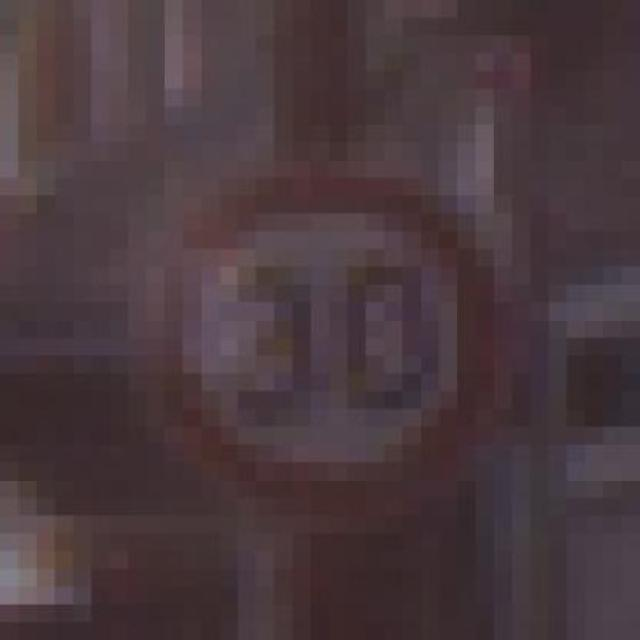Speed Limit 30 KMPh: (73, 107, 585, 551)
